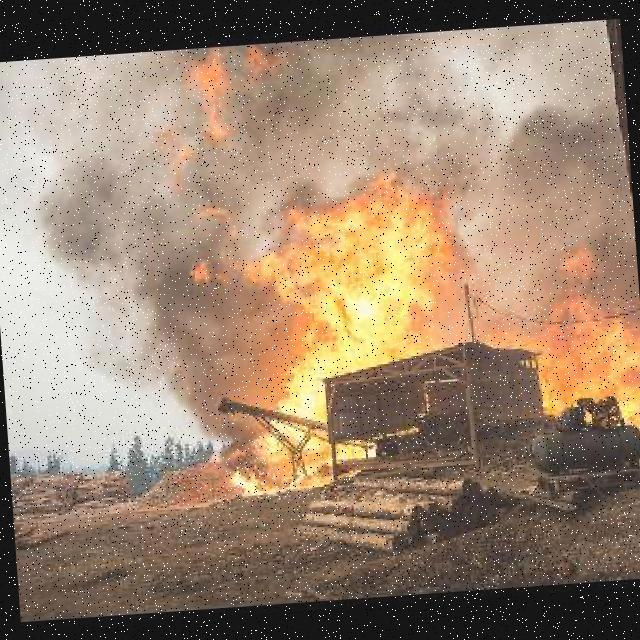Fire: (160, 164, 475, 464), (474, 218, 640, 443), (141, 44, 302, 192), (230, 460, 331, 491)
Smoke: (0, 58, 196, 421), (363, 23, 622, 232)
